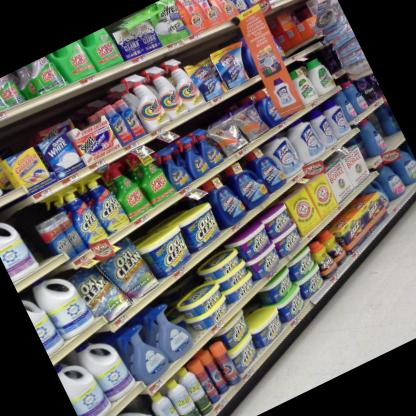empty_space: (4, 202, 60, 270), (379, 129, 404, 147)
